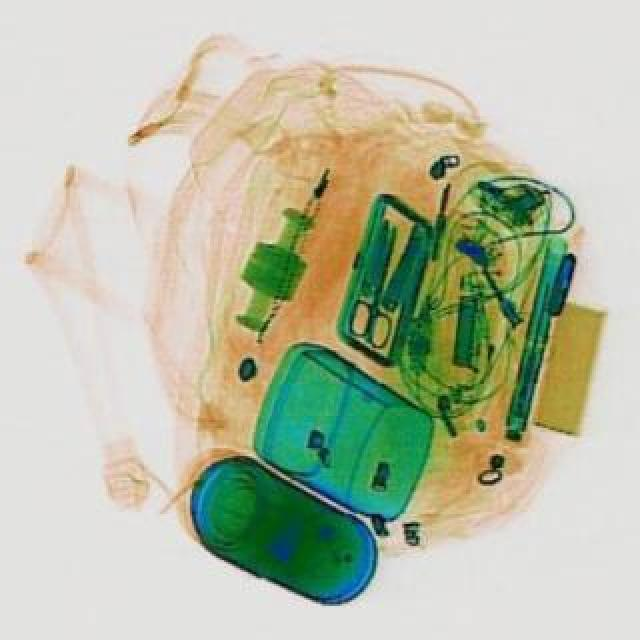pliers: (340, 218, 416, 346)
